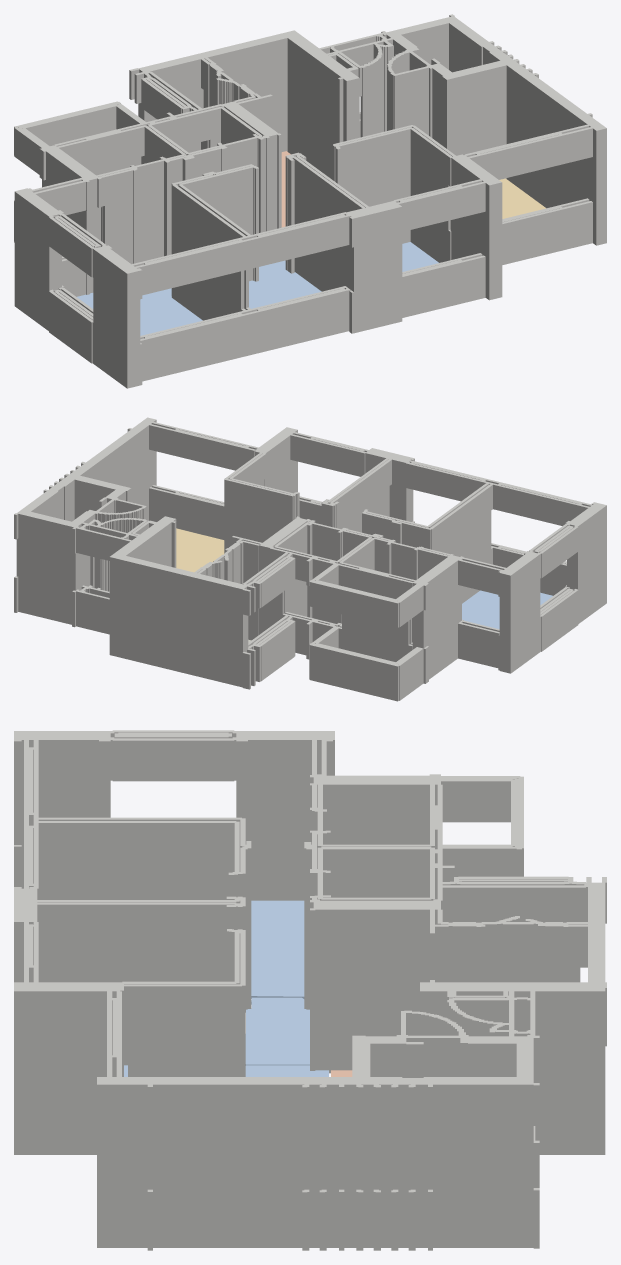
3 views of the same model, one above another, from view 1: azimuth 30°, elevation 25°; view 2: azimuth 150°, elevation 25°; view 3: azimuth 270°, elevation 25° (orthographic). The views are drawn at different scales.
Visible parts, largest first — view 1: walls, room:bedroom:9, room:bedroom:8, room:living:11, room:bedroom:10; view 2: walls, room:living:11, room:bedroom:8; view 3: walls, room:bedroom:8, room:bedroom:9, room:bedroom:10.
Boxes of the visible parts, box(x1,y1,x2,y2) form: walls: box(14, 14, 606, 388); room:bedroom:9: box(249, 260, 321, 308); room:bedroom:8: box(77, 288, 202, 335); room:living:11: box(499, 178, 545, 218); room:bedroom:10: box(402, 242, 438, 271); walls: box(14, 417, 606, 701); room:living:11: box(176, 528, 224, 572); room:bedroom:8: box(462, 590, 552, 629); walls: box(14, 730, 606, 1250); room:bedroom:8: box(251, 900, 304, 998); room:bedroom:9: box(245, 997, 309, 1065); room:bedroom:10: box(124, 1065, 328, 1076).
Bounding box in the file's own units: 13.1 × 2.8 × 9.2.
